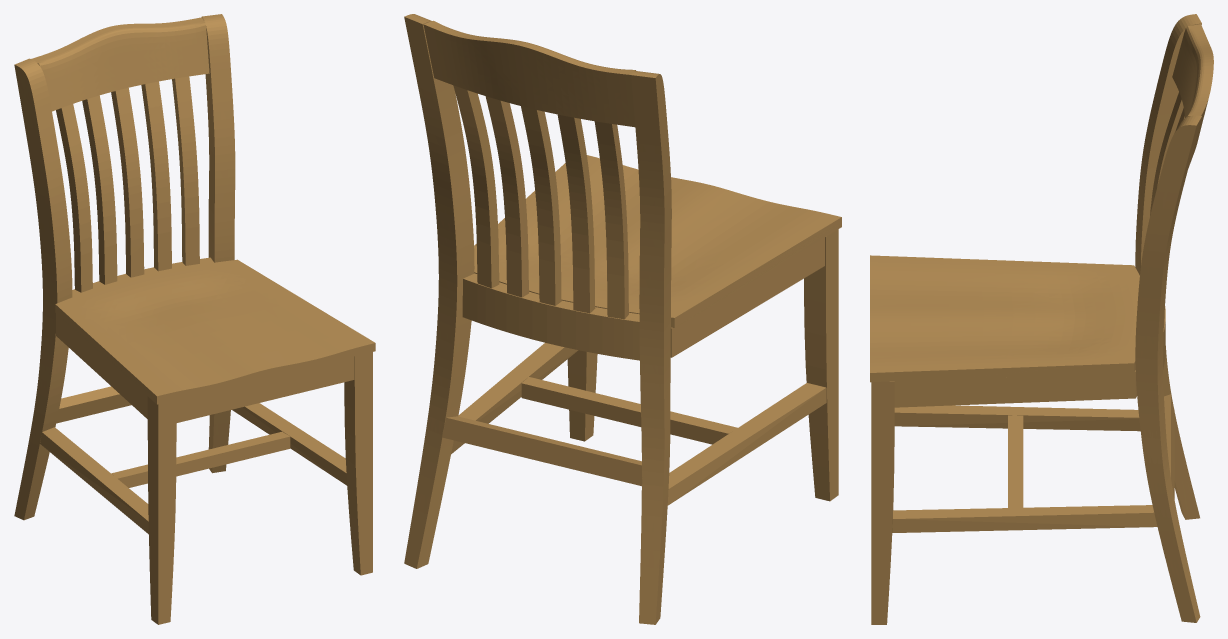
The model's file is ella_chair_f.obj.
3 renders of one model, left to right at view 1: azimuth 30°, elevation 25°; view 2: azimuth 150°, elevation 25°; view 3: azimuth 270°, elevation 25°, orthographic. The views are drawn at different scales.
Visible parts, largest first — view 1: ella_Chair.000_Cube.002, BackLegs.001_Cube.003, SeatBackSupports.003_Cube.018, FrontLegs.001_Cube.006, ChairBack.001_Cube.014, SideSupports.001_Cube.009, FrontRail.001_Cube.007, CenterSupport.001_Cube.011, SideRails.001_Cube.005, BackSupport.001_Cube.012, BackRail.001_Cube.013; view 2: BackLegs.001_Cube.003, SeatBackSupports.003_Cube.018, ella_Chair.000_Cube.002, ChairBack.001_Cube.014, FrontLegs.001_Cube.006, SideSupports.001_Cube.009, BackRail.001_Cube.013, BackSupport.001_Cube.012, SideRails.001_Cube.005, CenterSupport.001_Cube.011; view 3: ella_Chair.000_Cube.002, BackLegs.001_Cube.003, SideSupports.001_Cube.009, SideRails.001_Cube.005, FrontLegs.001_Cube.006, ChairBack.001_Cube.014, CenterSupport.001_Cube.011, SeatBackSupports.003_Cube.018, BackSupport.001_Cube.012.
Part boxes in pixels (x1,y1,x2,y2): ella_Chair.000_Cube.002: (55,259,375,404); BackLegs.001_Cube.003: (14,14,235,520); SeatBackSupports.003_Cube.018: (56,76,199,292); FrontLegs.001_Cube.006: (147,352,372,624); ChairBack.001_Cube.014: (31,17,209,111); SideSupports.001_Cube.009: (40,403,347,534); FrontRail.001_Cube.007: (176,356,354,422); CenterSupport.001_Cube.011: (111,431,290,487); SideRails.001_Cube.005: (56,313,147,418); BackSupport.001_Cube.012: (56,386,131,423); BackRail.001_Cube.013: (72,257,213,297); BackLegs.001_Cube.003: (404,14,671,624); SeatBackSupports.003_Cube.018: (453,85,628,319); ella_Chair.000_Cube.002: (474,155,841,327); ChairBack.001_Cube.014: (423,20,635,127); FrontLegs.001_Cube.006: (567,229,838,501); SideSupports.001_Cube.009: (451,343,826,505); BackRail.001_Cube.013: (462,273,639,360); BackSupport.001_Cube.012: (442,416,642,486); SideRails.001_Cube.005: (670,237,824,357); CenterSupport.001_Cube.011: (521,377,737,444); ella_Chair.000_Cube.002: (870,255,1139,382); BackLegs.001_Cube.003: (1135,14,1201,622); SideSupports.001_Cube.009: (892,405,1157,532); SideRails.001_Cube.005: (894,370,1137,407); FrontLegs.001_Cube.006: (871,381,894,624); ChairBack.001_Cube.014: (1172,24,1213,161); CenterSupport.001_Cube.011: (1008,415,1023,507); SeatBackSupports.003_Cube.018: (1150,92,1191,327); BackSupport.001_Cube.012: (1164,394,1174,498).
Bounding box in the file's own units: 4.57 × 9.17 × 5.65.
